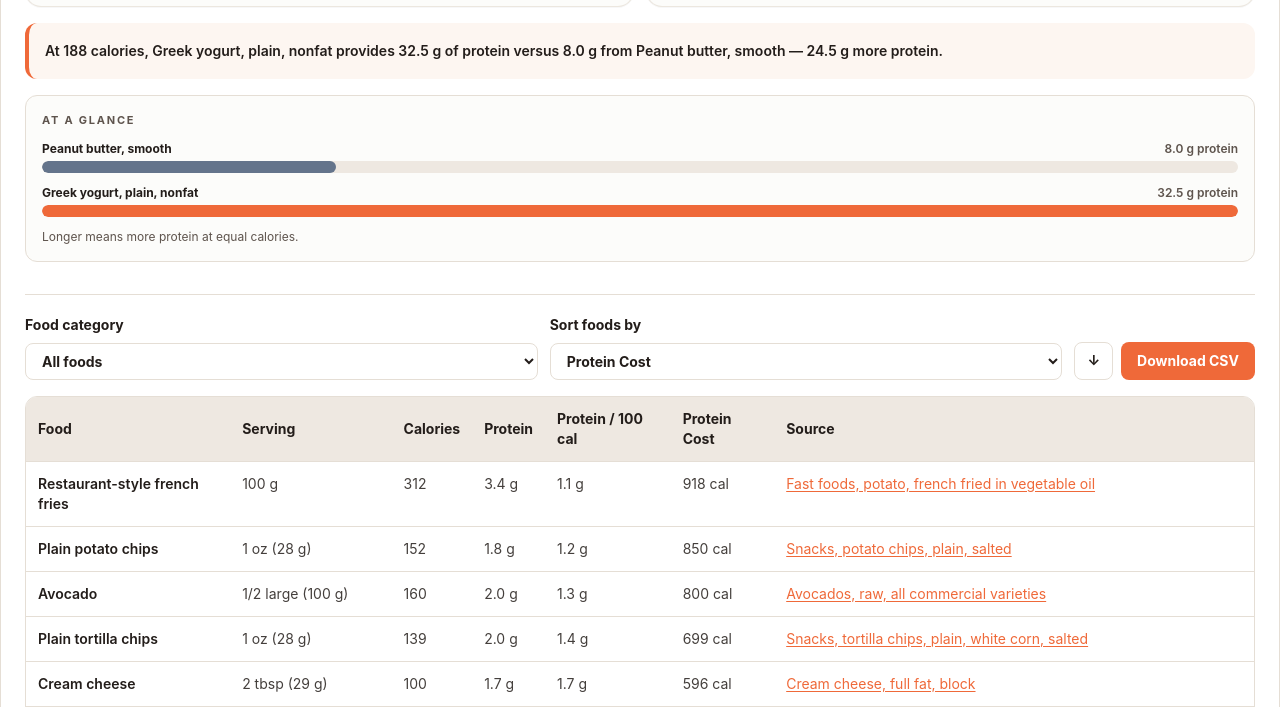
Scenario: ProteinSwapExplorer › revokes the CSV object URL when the download click fails
The width and height of the screenshot is (1280, 707).
(page scrolled)
Click the button "Download CSV".
click(1188, 360)  # box [1121, 342, 1255, 380]
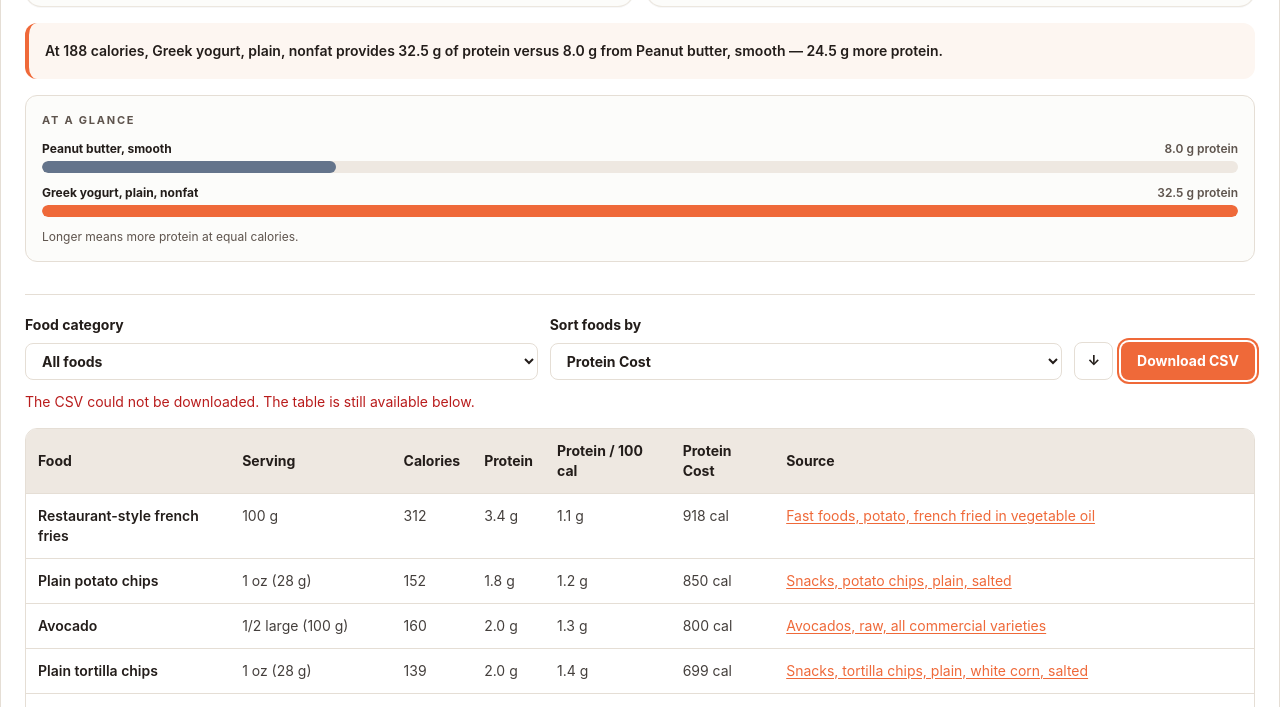
expect the message "The CSV could not be downloaded. The table is still available below." is shown: met, box [25, 392, 475, 410]
